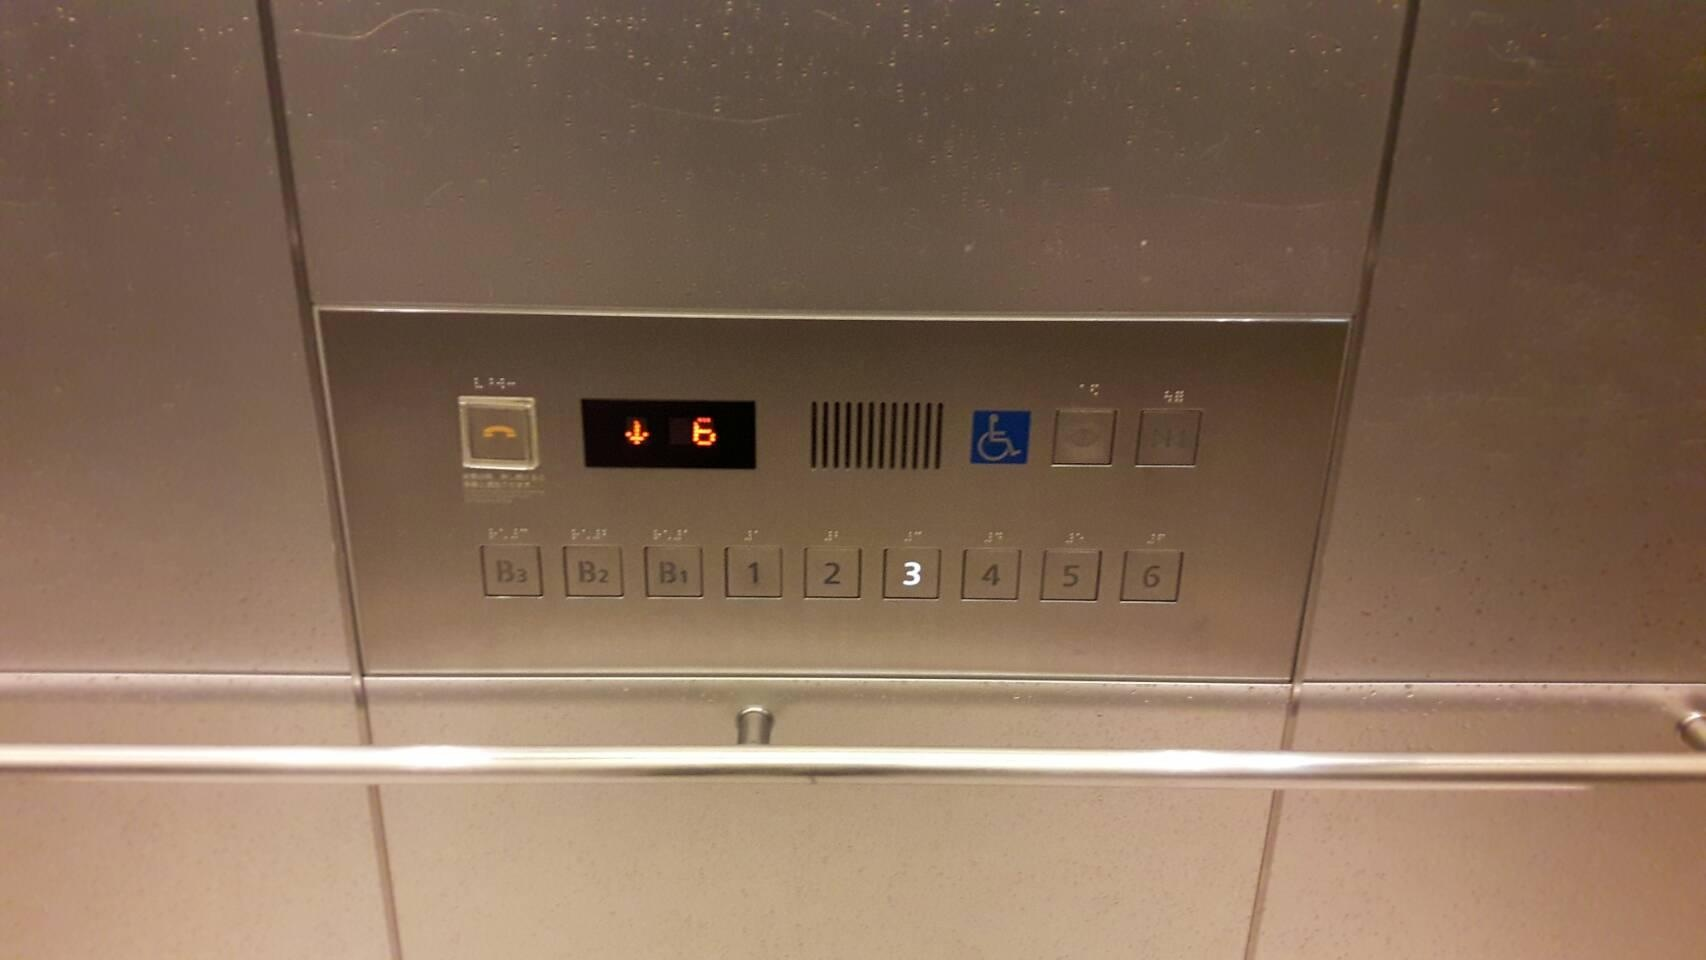1: (719, 542, 789, 604)
2: (797, 540, 866, 602)
3: (876, 540, 946, 602)
4: (956, 542, 1025, 604)
5: (1036, 542, 1106, 606)
6: (1115, 543, 1187, 608)
B1: (639, 540, 708, 602)
B2: (558, 540, 629, 604)
B3: (473, 539, 548, 601)
CH: (965, 404, 1036, 469)
call: (453, 390, 545, 475)
close: (1130, 403, 1208, 471)
led: (576, 393, 760, 474)
open: (1046, 403, 1122, 472)
